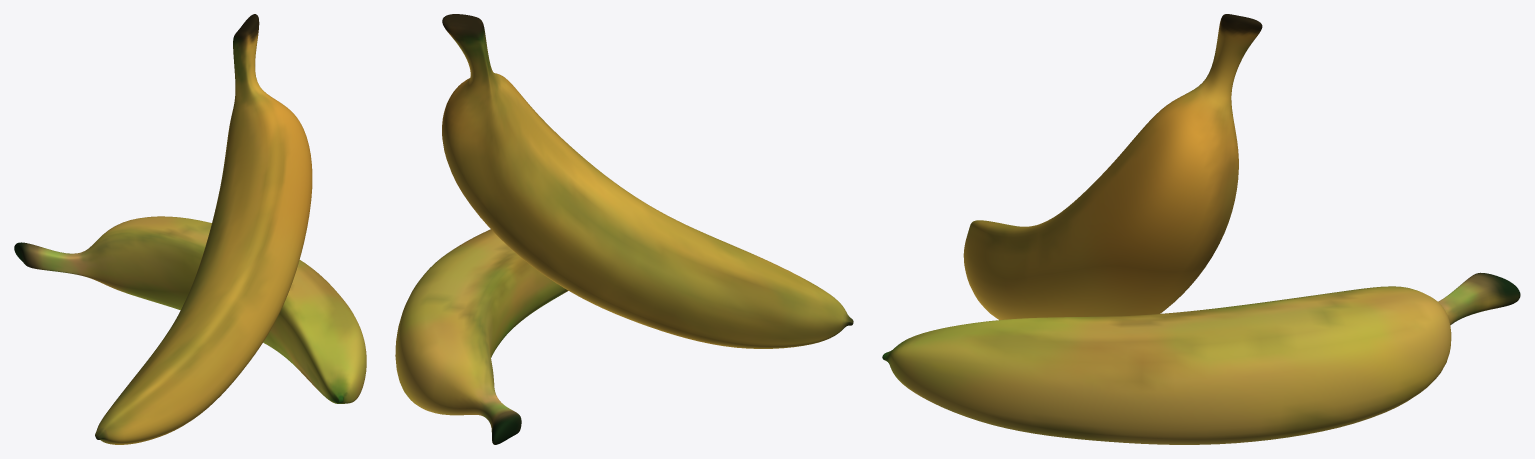
The model's file is banana.glb.
3 renders of one model, left to right at view 1: azimuth 30°, elevation 25°; view 2: azimuth 150°, elevation 25°; view 3: azimuth 270°, elevation 25°, orthographic. The views are drawn at different scales.
Visible parts, largest first — view 1: Cube.001, Cube.002; view 2: Cube.001, Cube.002; view 3: Cube.002, Cube.001.
Boxes of the visible parts, x1,y1,x2,y2 form: Cube.001: [95, 14, 312, 444]; Cube.002: [14, 216, 366, 403]; Cube.001: [442, 14, 853, 348]; Cube.002: [395, 229, 568, 444]; Cube.002: [882, 272, 1520, 444]; Cube.001: [963, 14, 1262, 319].
Size of the model in its own units: 2.53 by 2.51 by 3.47.
